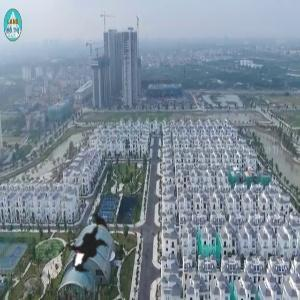drone: (36, 192, 135, 291)
